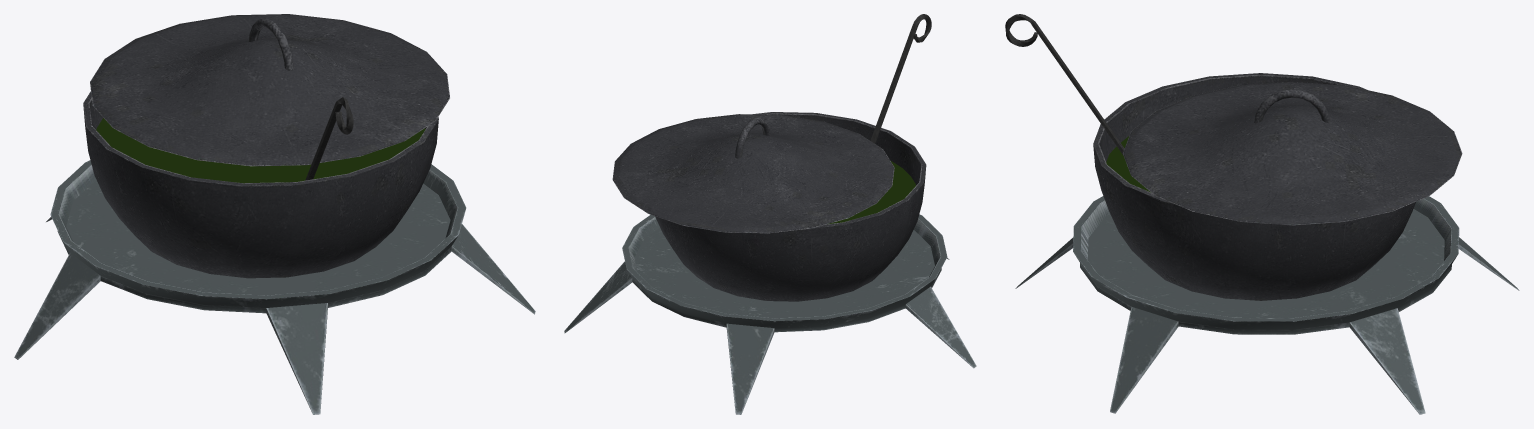
Rendered from viking_tea_party_-_viking_stove.glb.
3 views of the same model, side by side, from view 1: azimuth 30°, elevation 25°; view 2: azimuth 150°, elevation 25°; view 3: azimuth 270°, elevation 25° (orthographic). The views are drawn at different scales.
Parts seen in each view (by area): view 1: Lid, Cooking_Top, Pot, Food, Ladle; view 2: Lid, Cooking_Top, Pot, Food, Ladle; view 3: Lid, Cooking_Top, Pot, Ladle, Food.
Part boxes in pixels (x1,y1,x2,y2): Lid: (90, 14, 449, 166); Cooking_Top: (14, 160, 535, 414); Pot: (83, 91, 438, 278); Food: (96, 118, 425, 183); Ladle: (305, 97, 353, 180); Lid: (612, 114, 894, 233); Cooking_Top: (564, 214, 976, 414); Pot: (655, 112, 926, 301); Food: (827, 161, 915, 224); Ladle: (870, 14, 931, 143); Lid: (1123, 81, 1462, 225); Cooking_Top: (1015, 196, 1519, 414); Pot: (1093, 73, 1415, 300); Ladle: (1005, 14, 1124, 155); Food: (1106, 136, 1150, 192).
Bounding box in the file's own units: 1.86 × 1.24 × 2.
5 materials, 4 textured.
